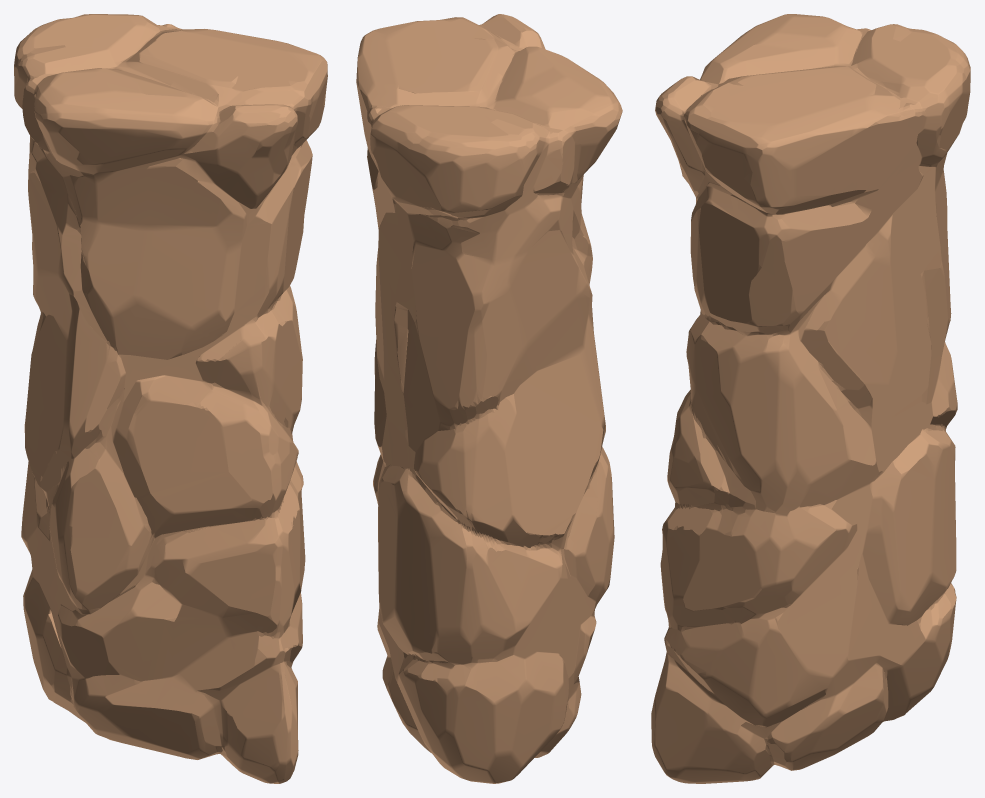
The picture shows the model from 3 angles, left to right: view 1: azimuth 30°, elevation 25°; view 2: azimuth 150°, elevation 25°; view 3: azimuth 270°, elevation 25°; orthographic projection.
Parts seen in each view (by area): view 1: Mesh_81_LOD0; view 2: Mesh_81_LOD0; view 3: Mesh_81_LOD0.
Part boxes in pixels (box(x1,y1,x2,y2)): Mesh_81_LOD0: box(14, 14, 327, 783); Mesh_81_LOD0: box(356, 14, 622, 783); Mesh_81_LOD0: box(651, 14, 970, 783).
Size of what is drawn, in the model's own units: 1733 by 4241 by 1777.
